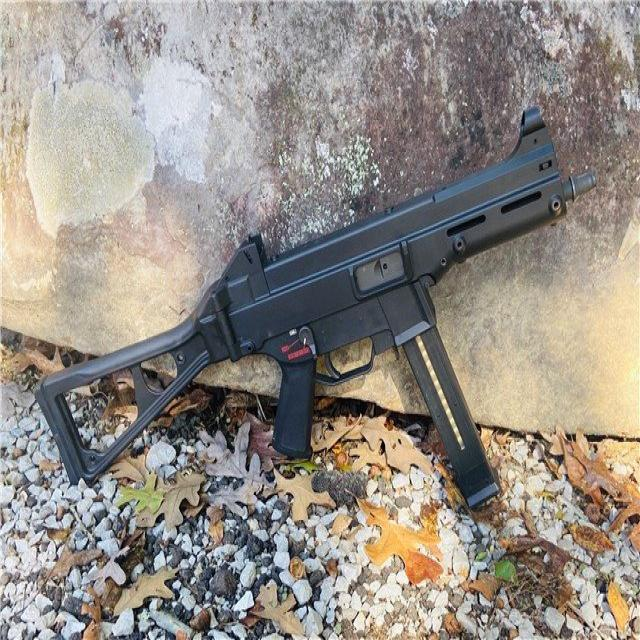SMG: (37, 107, 600, 512)
